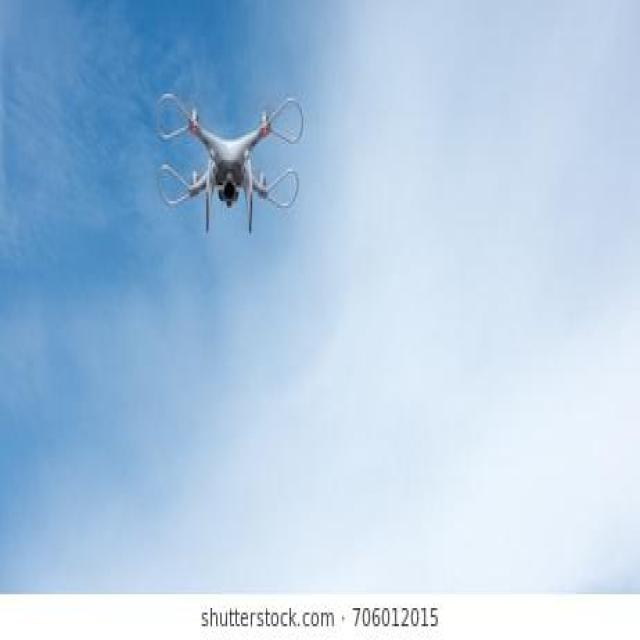drone: (125, 62, 336, 266)
